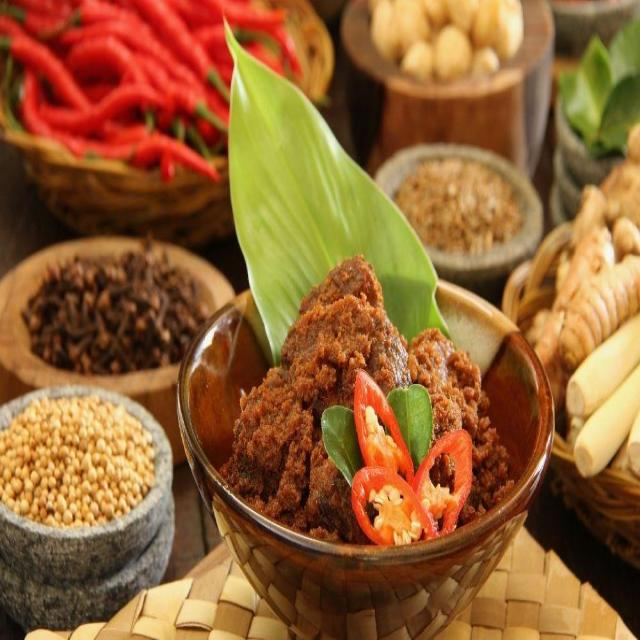Rendang: (223, 240, 510, 581)
